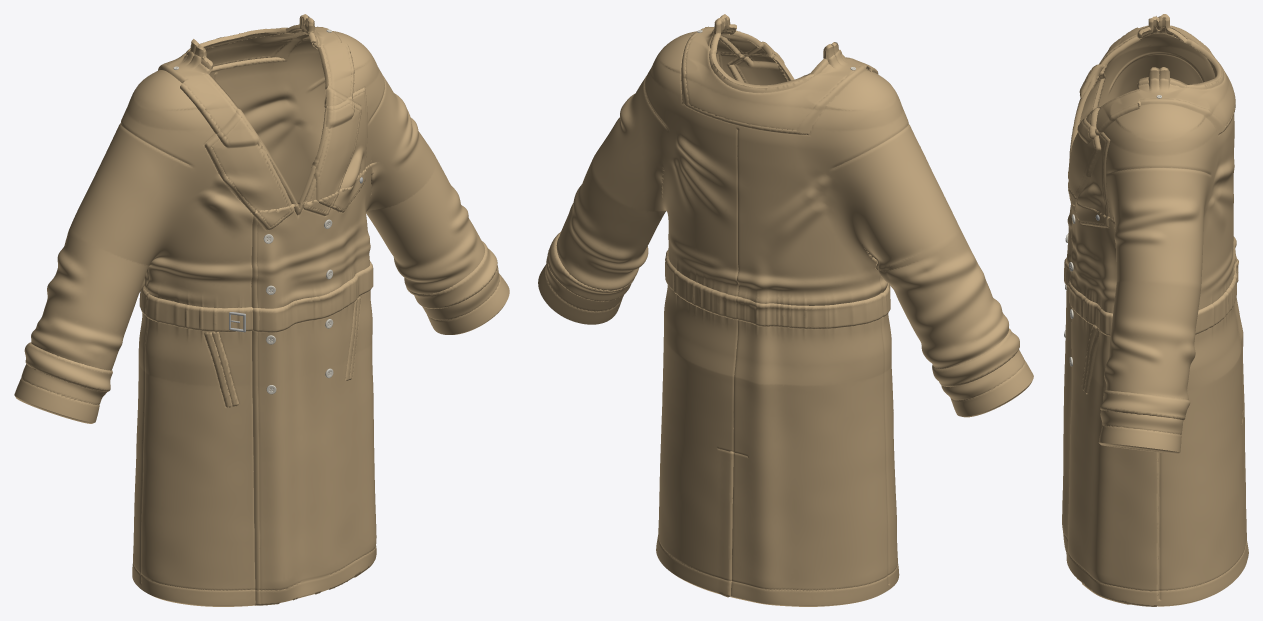
The model's file is 01_gabardina.glb.
The picture shows the model from 3 angles, left to right: view 1: azimuth 30°, elevation 25°; view 2: azimuth 150°, elevation 25°; view 3: azimuth 270°, elevation 25°; orthographic projection. The views are drawn at different scales.
Visible parts, largest first — view 1: body; view 2: body; view 3: body.
Boxes of the visible parts, box(x1,y1,x2,y2) form: body: box(14, 14, 509, 606); body: box(538, 14, 1033, 606); body: box(1062, 14, 1248, 606).
Size of the model in its own units: 1.07 by 1.14 by 0.3741.
